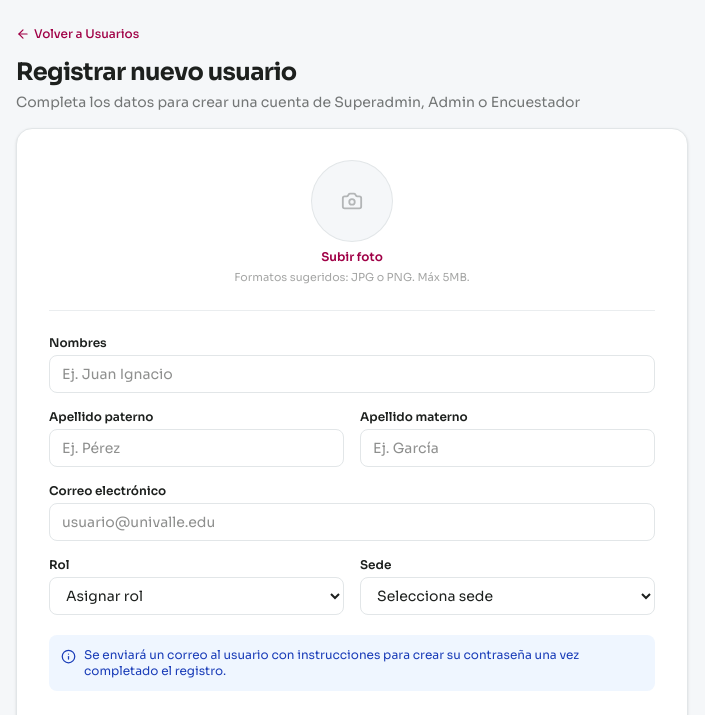
Scenario: RegistrarUsuarioPage › muestra el error del servidor si el correo ya existe
Type "Juan" into the field with placeholder "Ej. Juan Ignacio" at (352, 374), box [49,354,655,392]
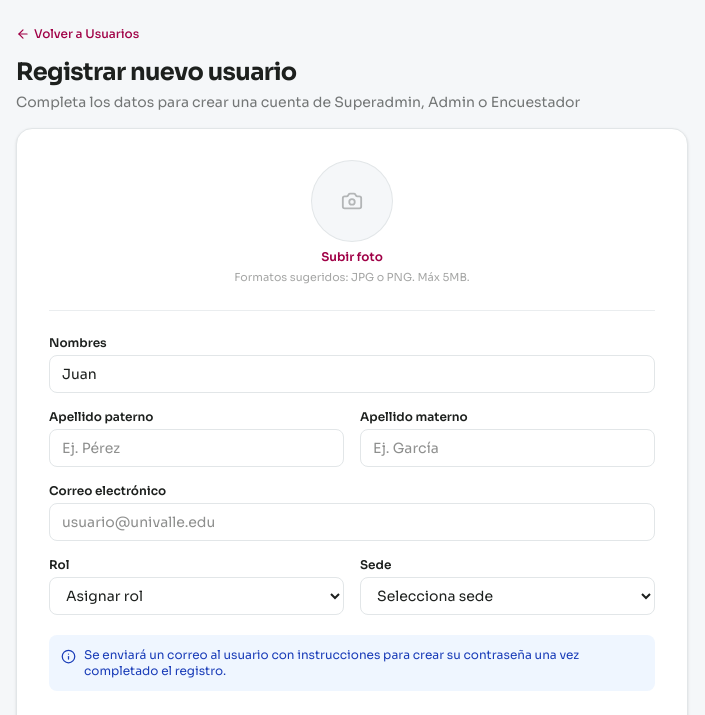
Type "Pérez" into the field with placeholder "Ej. Pérez" at (196, 448), box [49,428,344,466]
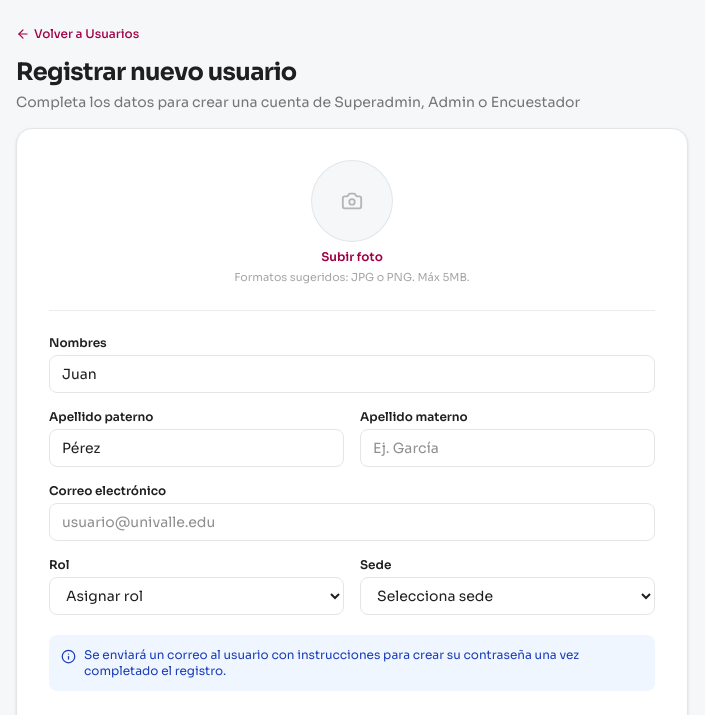
Type "juan@univalle.edu" into the field with placeholder "usuario@univalle.edu" at (352, 522), box [49,502,655,540]
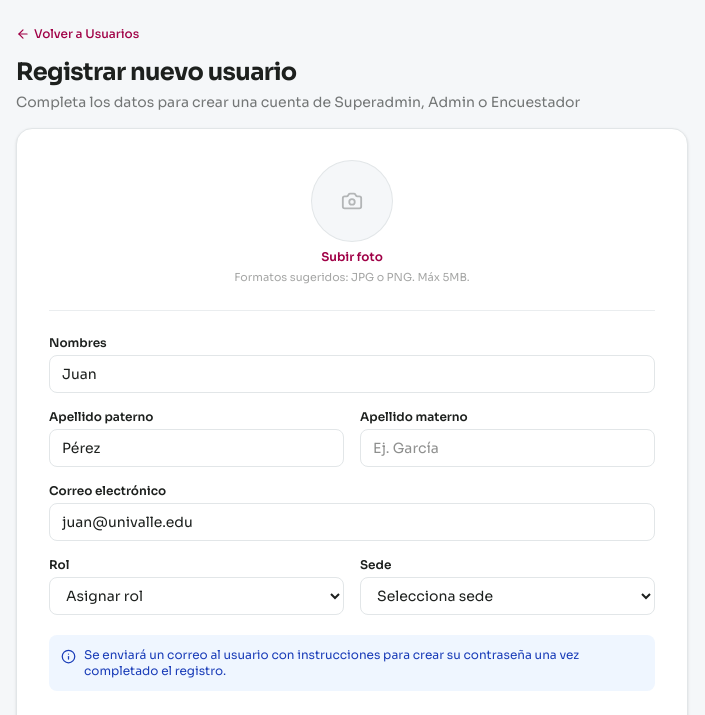
Select "Admin" in the dropdown showing "Asignar rol" at (196, 596), box [49,576,344,614]
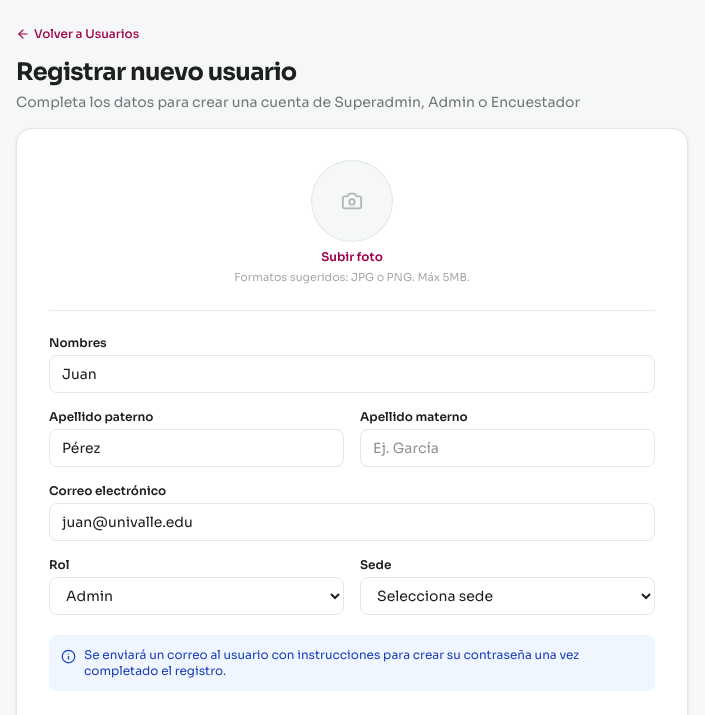
Select "Cochabamba" in the dropdown showing "Selecciona sede" at (508, 596), box [360,576,655,614]
(page scrolled)
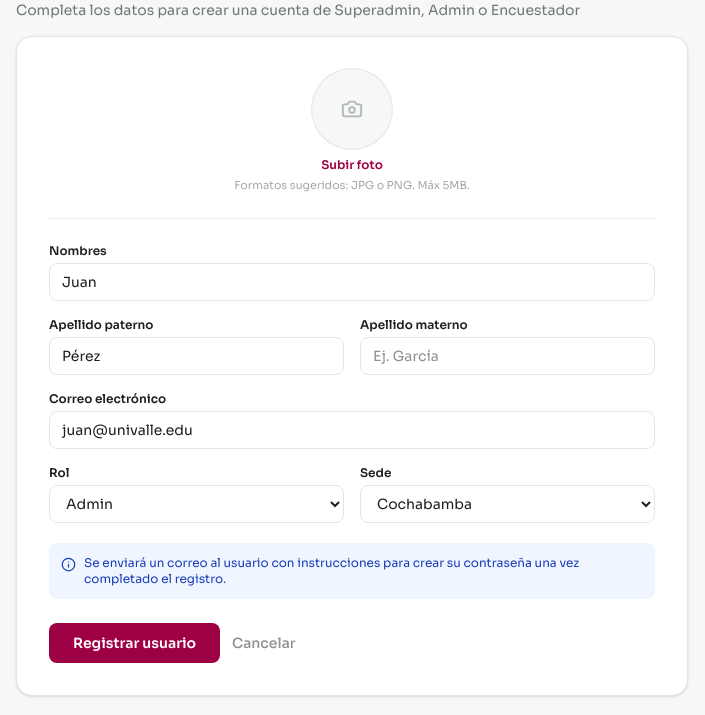
Click the button "Registrar usuario" at (134, 642), box [49,622,220,662]
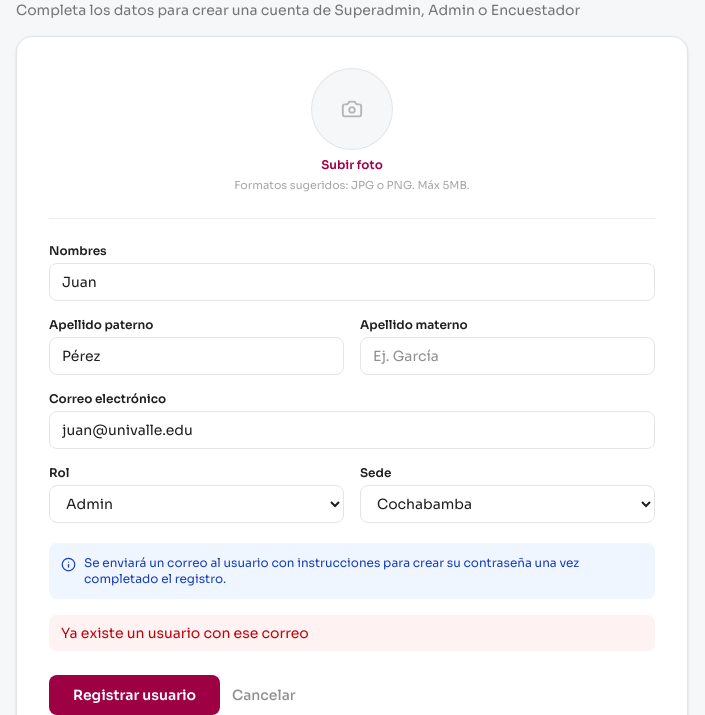
Check: the text "Ya existe un usuario con ese correo" is shown, box [49,614,655,650]
